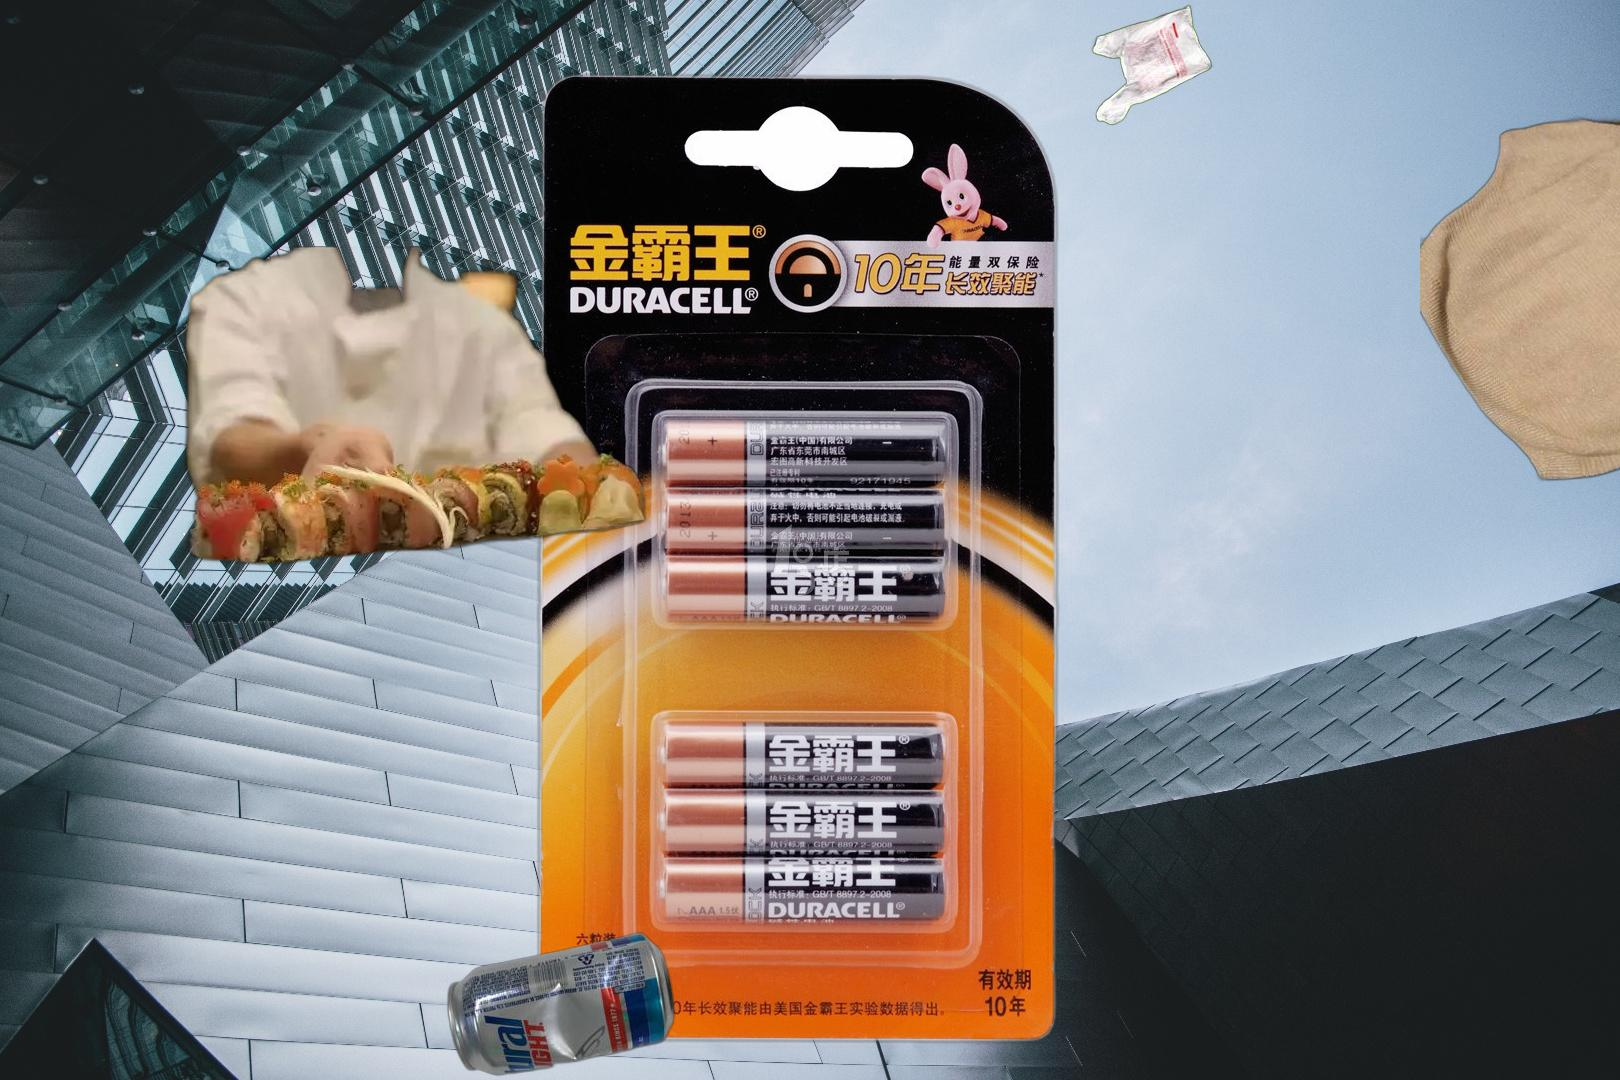battery: (532, 66, 1067, 1051)
biological: (155, 246, 653, 568)
clothes: (1420, 115, 1620, 582)
metal-cans: (444, 931, 679, 1079)
plastic-bag: (1088, 2, 1215, 127)
